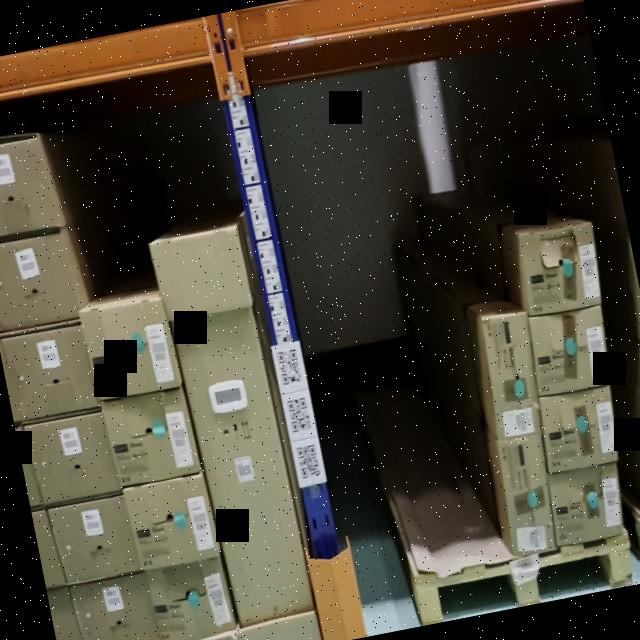box: (152, 225, 313, 628), (4, 317, 101, 425), (81, 298, 180, 403), (102, 388, 199, 488), (123, 474, 219, 571), (27, 414, 123, 509), (48, 491, 140, 580), (483, 312, 542, 444), (522, 221, 603, 315), (530, 308, 610, 396), (146, 562, 235, 640), (540, 384, 617, 470), (499, 438, 554, 554), (548, 465, 623, 547), (71, 576, 157, 640)
